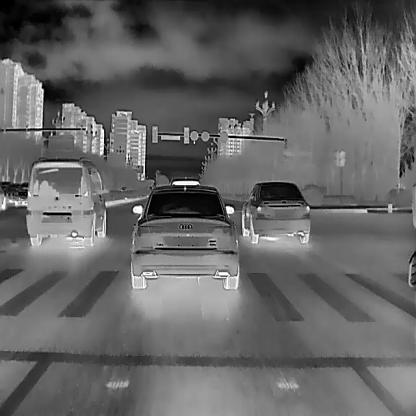car: (128, 178, 240, 289), (25, 154, 106, 246), (241, 179, 311, 243), (13, 180, 31, 206)
